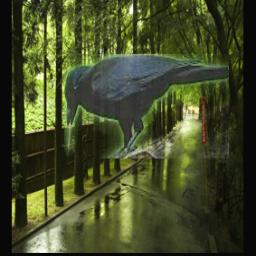Crow: (64, 55, 229, 159)
